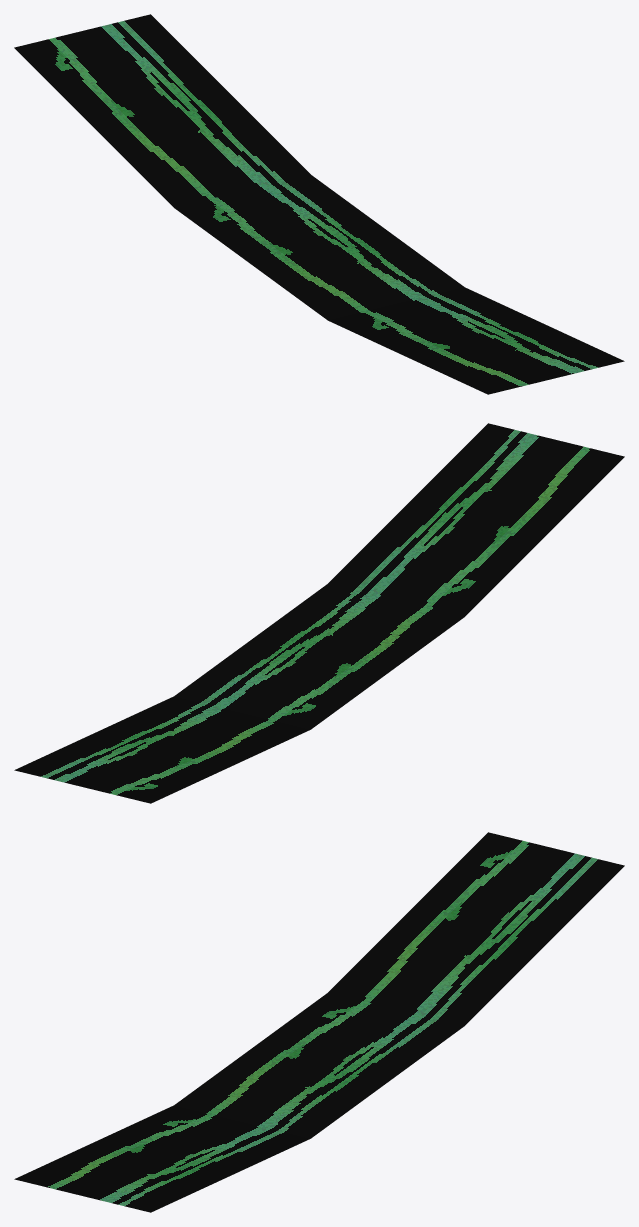
Rendered from bent_vines_2_normal.glb.
3 renders of one model, top to bottom at view 1: azimuth 30°, elevation 25°; view 2: azimuth 150°, elevation 25°; view 3: azimuth 330°, elevation 25°, orthographic.
Parts seen in each view (by area): view 1: Bent Vines 2 Normal; view 2: Bent Vines 2 Normal; view 3: Bent Vines 2 Normal.
Part boxes in pixels (x1=…): Bent Vines 2 Normal: x1=14, y1=14, x2=624, y2=394; Bent Vines 2 Normal: x1=14, y1=423, x2=624, y2=803; Bent Vines 2 Normal: x1=14, y1=832, x2=624, y2=1212.
Size of the model in its own units: 1 by 0.3012 by 6.
1 material, 1 textured.
